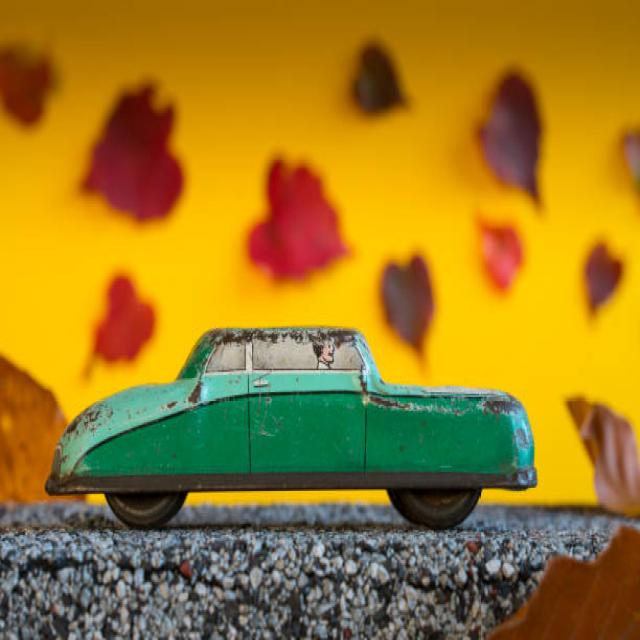Car: (44, 323, 537, 530)
